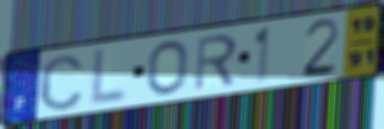1: (251, 22, 277, 87)
2: (300, 16, 341, 80)
C: (37, 51, 86, 113)
L: (87, 46, 130, 109)
O: (146, 39, 190, 97)
R: (192, 32, 240, 93)
